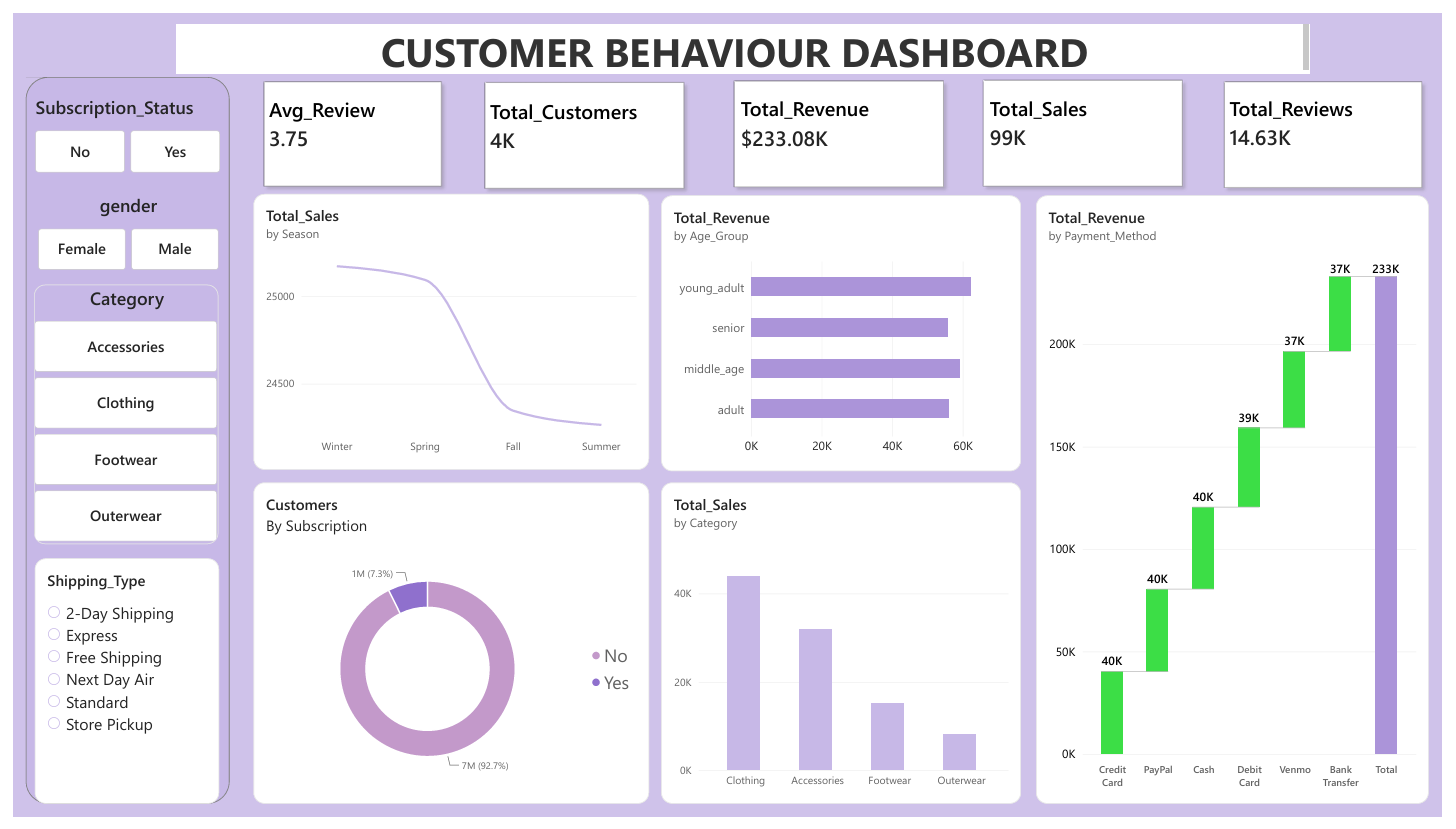

The dashboard page shown, as its layout file describes it:
{"tool":"powerbi","page":{"name":"Page 1","canvas":[1920,1080],"ordinal":0},"visuals":[{"type":"shape","box":[327.3,82.1,257,159.3],"z":0,"group":"g1"},{"type":"shape","box":[624.3,83.2,285.9,161.1],"z":0,"group":"g5"},{"type":"shape","box":[959.1,81.4,300.1,161.1],"z":1,"group":"g2"},{"type":"shape","box":[1293.9,79.6,285.7,161.1],"z":2,"group":"g3"},{"type":"shape","box":[1617.8,81.4,284.1,161.1],"z":3,"group":"g4"},{"type":"cardVisual","fields":{"Data":["customer_behavoir customer.Avg_Review"]},"box":[327.3,82.1,238.9,133.9],"z":4,"group":"g1"},{"type":"cardVisual","fields":{"Data":["customer_behavoir customer.total_revenue"]},"box":[961.2,81.4,300.1,133.9],"z":5,"group":"g2"},{"type":"cardVisual","fields":{"Data":["customer_behavoir customer.total_sales"]},"box":[1295.9,79.6,285.7,133.9],"z":6,"group":"g3"},{"type":"cardVisual","fields":{"Data":["customer_behavoir customer.total_reviews"]},"box":[1617.8,79.6,284.1,133.9],"z":7,"group":"g4"},{"type":"lineChart","fields":{"Category":["customer_behavoir customer.season"],"Y":["customer_behavoir customer.total_sales"]},"box":[322.1,242.5,532,371],"z":8},{"type":"barChart","fields":{"Category":["customer_behavoir customer.age_group"],"Y":["customer_behavoir customer.total_revenue"]},"box":[870.4,244.3,483.2,371],"z":9},{"type":"donutChart","title":"Customers ","fields":{"Category":["customer_behavoir customer.subscription_status"],"Y":["Sum(customer_behavoir customer.customer_id)"]},"box":[322.1,629.8,532,432.5],"z":10},{"type":"columnChart","fields":{"Category":["customer_behavoir customer.category"],"Y":["customer_behavoir customer.total_sales"]},"box":[870.4,629.8,483.2,432.5],"z":11},{"type":"shape","box":[16.3,81.4,273.3,980.8],"z":12},{"type":"advancedSlicerVisual","title":"Subscription_Status","fields":{"Values":["customer_behavoir customer.subscription_status"]},"box":[29,108.6,249.7,105],"z":13},{"type":"advancedSlicerVisual","fields":{"Values":["customer_behavoir customer.gender"]},"box":[32.6,240.7,242.5,103.2],"z":14},{"type":"advancedSlicerVisual","title":"Category","fields":{"Values":["customer_behavoir customer.category"]},"box":[27.1,363.7,247.9,349.3],"z":15},{"type":"listSlicer","title":"Shipping_Type","fields":{"Values":["customer_behavoir customer.shipping_type"]},"box":[28,732,248,330],"z":16},{"type":"waterfallChart","fields":{"Category":["customer_behavoir customer.payment_method"],"Y":["customer_behavoir customer.total_revenue"]},"box":[1373.5,244.3,528.4,818],"z":17},{"type":"group","id":"g1","title":"Group 1","box":[327.3,82.1,257,159.3],"z":18},{"type":"group","id":"g2","title":"Group 2","box":[959.1,81.4,302.2,161.1],"z":19},{"type":"group","id":"g3","title":"Group 3","box":[1293.9,79.6,287.7,161.1],"z":20},{"type":"group","id":"g4","title":"Group 4","box":[1617.8,79.6,284.1,162.9],"z":21},{"type":"group","id":"g5","title":"Group 1","box":[624.3,83.2,285.9,161.1],"z":22},{"type":"textbox","box":[218,14,1524,66],"z":23},{"type":"cardVisual","fields":{"Data":["customer_behavoir customer.total_customers"]},"box":[624.3,85,285.9,133.9],"z":1000,"group":"g5"}]}

Visuals, with their boxes in screenshot pixels (x1, y1, x2, y2), scaled from the page's 1920x1080 canvas onto the 1456x829 screenshot:
shape: crop(248, 63, 443, 185)
shape: crop(473, 64, 690, 188)
shape: crop(727, 62, 955, 186)
shape: crop(981, 61, 1198, 185)
shape: crop(1227, 62, 1442, 186)
cardVisual - customer_behavoir customer.Avg_Review: crop(248, 63, 429, 166)
cardVisual - customer_behavoir customer.total_revenue: crop(729, 62, 956, 165)
cardVisual - customer_behavoir customer.total_sales: crop(983, 61, 1199, 164)
cardVisual - customer_behavoir customer.total_reviews: crop(1227, 61, 1442, 164)
lineChart - customer_behavoir customer.season x customer_behavoir customer.total_sales: crop(244, 186, 648, 471)
barChart - customer_behavoir customer.age_group x customer_behavoir customer.total_revenue: crop(660, 188, 1026, 472)
"Customers " donutChart: crop(244, 483, 648, 815)
columnChart - customer_behavoir customer.category x customer_behavoir customer.total_sales: crop(660, 483, 1026, 815)
shape: crop(12, 62, 220, 815)
"Subscription_Status" advancedSlicerVisual: crop(22, 83, 211, 164)
advancedSlicerVisual - customer_behavoir customer.gender: crop(25, 185, 209, 264)
"Category" advancedSlicerVisual: crop(21, 279, 209, 547)
"Shipping_Type" listSlicer: crop(21, 562, 209, 815)
waterfallChart - customer_behavoir customer.payment_method x customer_behavoir customer.total_revenue: crop(1042, 188, 1442, 815)
"Group 1" group: crop(248, 63, 443, 185)
"Group 2" group: crop(727, 62, 956, 186)
"Group 3" group: crop(981, 61, 1199, 185)
"Group 4" group: crop(1227, 61, 1442, 186)
"Group 1" group: crop(473, 64, 690, 188)
textbox: crop(165, 11, 1321, 61)
cardVisual - customer_behavoir customer.total_customers: crop(473, 65, 690, 168)
